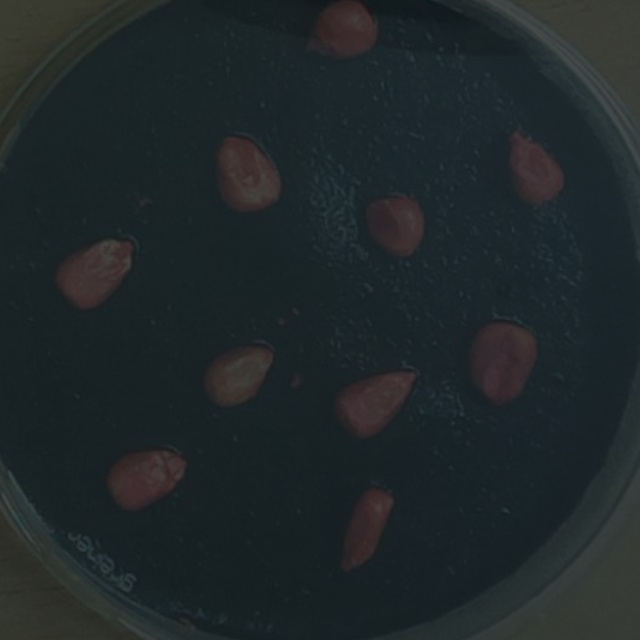Zea mays: (456, 311, 545, 415), (46, 228, 144, 320), (324, 360, 424, 450), (328, 478, 406, 587), (98, 439, 195, 522), (208, 125, 288, 224), (192, 336, 284, 418), (292, 0, 387, 71), (498, 120, 569, 215), (354, 183, 431, 268)
